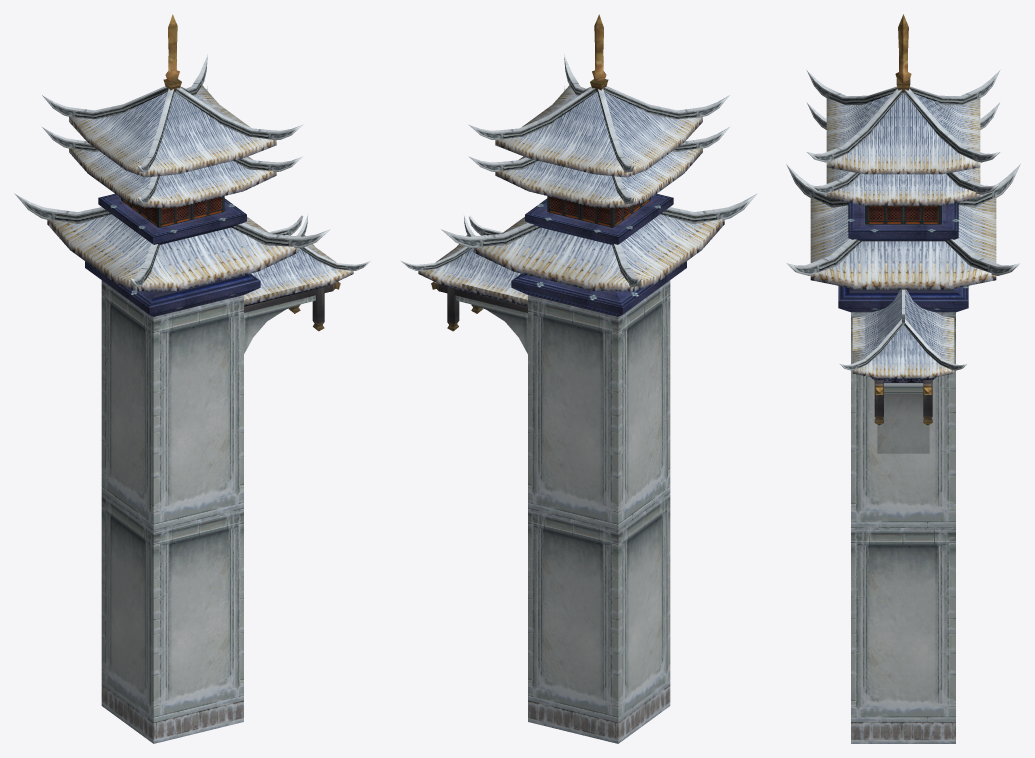
Rendered from jz_louge_03.FBX.
3 views of the same model, side by side, from view 1: azimuth 30°, elevation 25°; view 2: azimuth 150°, elevation 25°; view 3: azimuth 270°, elevation 25° (orthographic).
Parts seen in each view (by area): view 1: jz_louge_03; view 2: jz_louge_03; view 3: jz_louge_03.
Part boxes in pixels (bbox=[...]): jz_louge_03: bbox=[14, 14, 370, 743]; jz_louge_03: bbox=[401, 14, 757, 743]; jz_louge_03: bbox=[786, 14, 1020, 743].
Bounding box in the file's own units: 717 × 1790 × 538.
